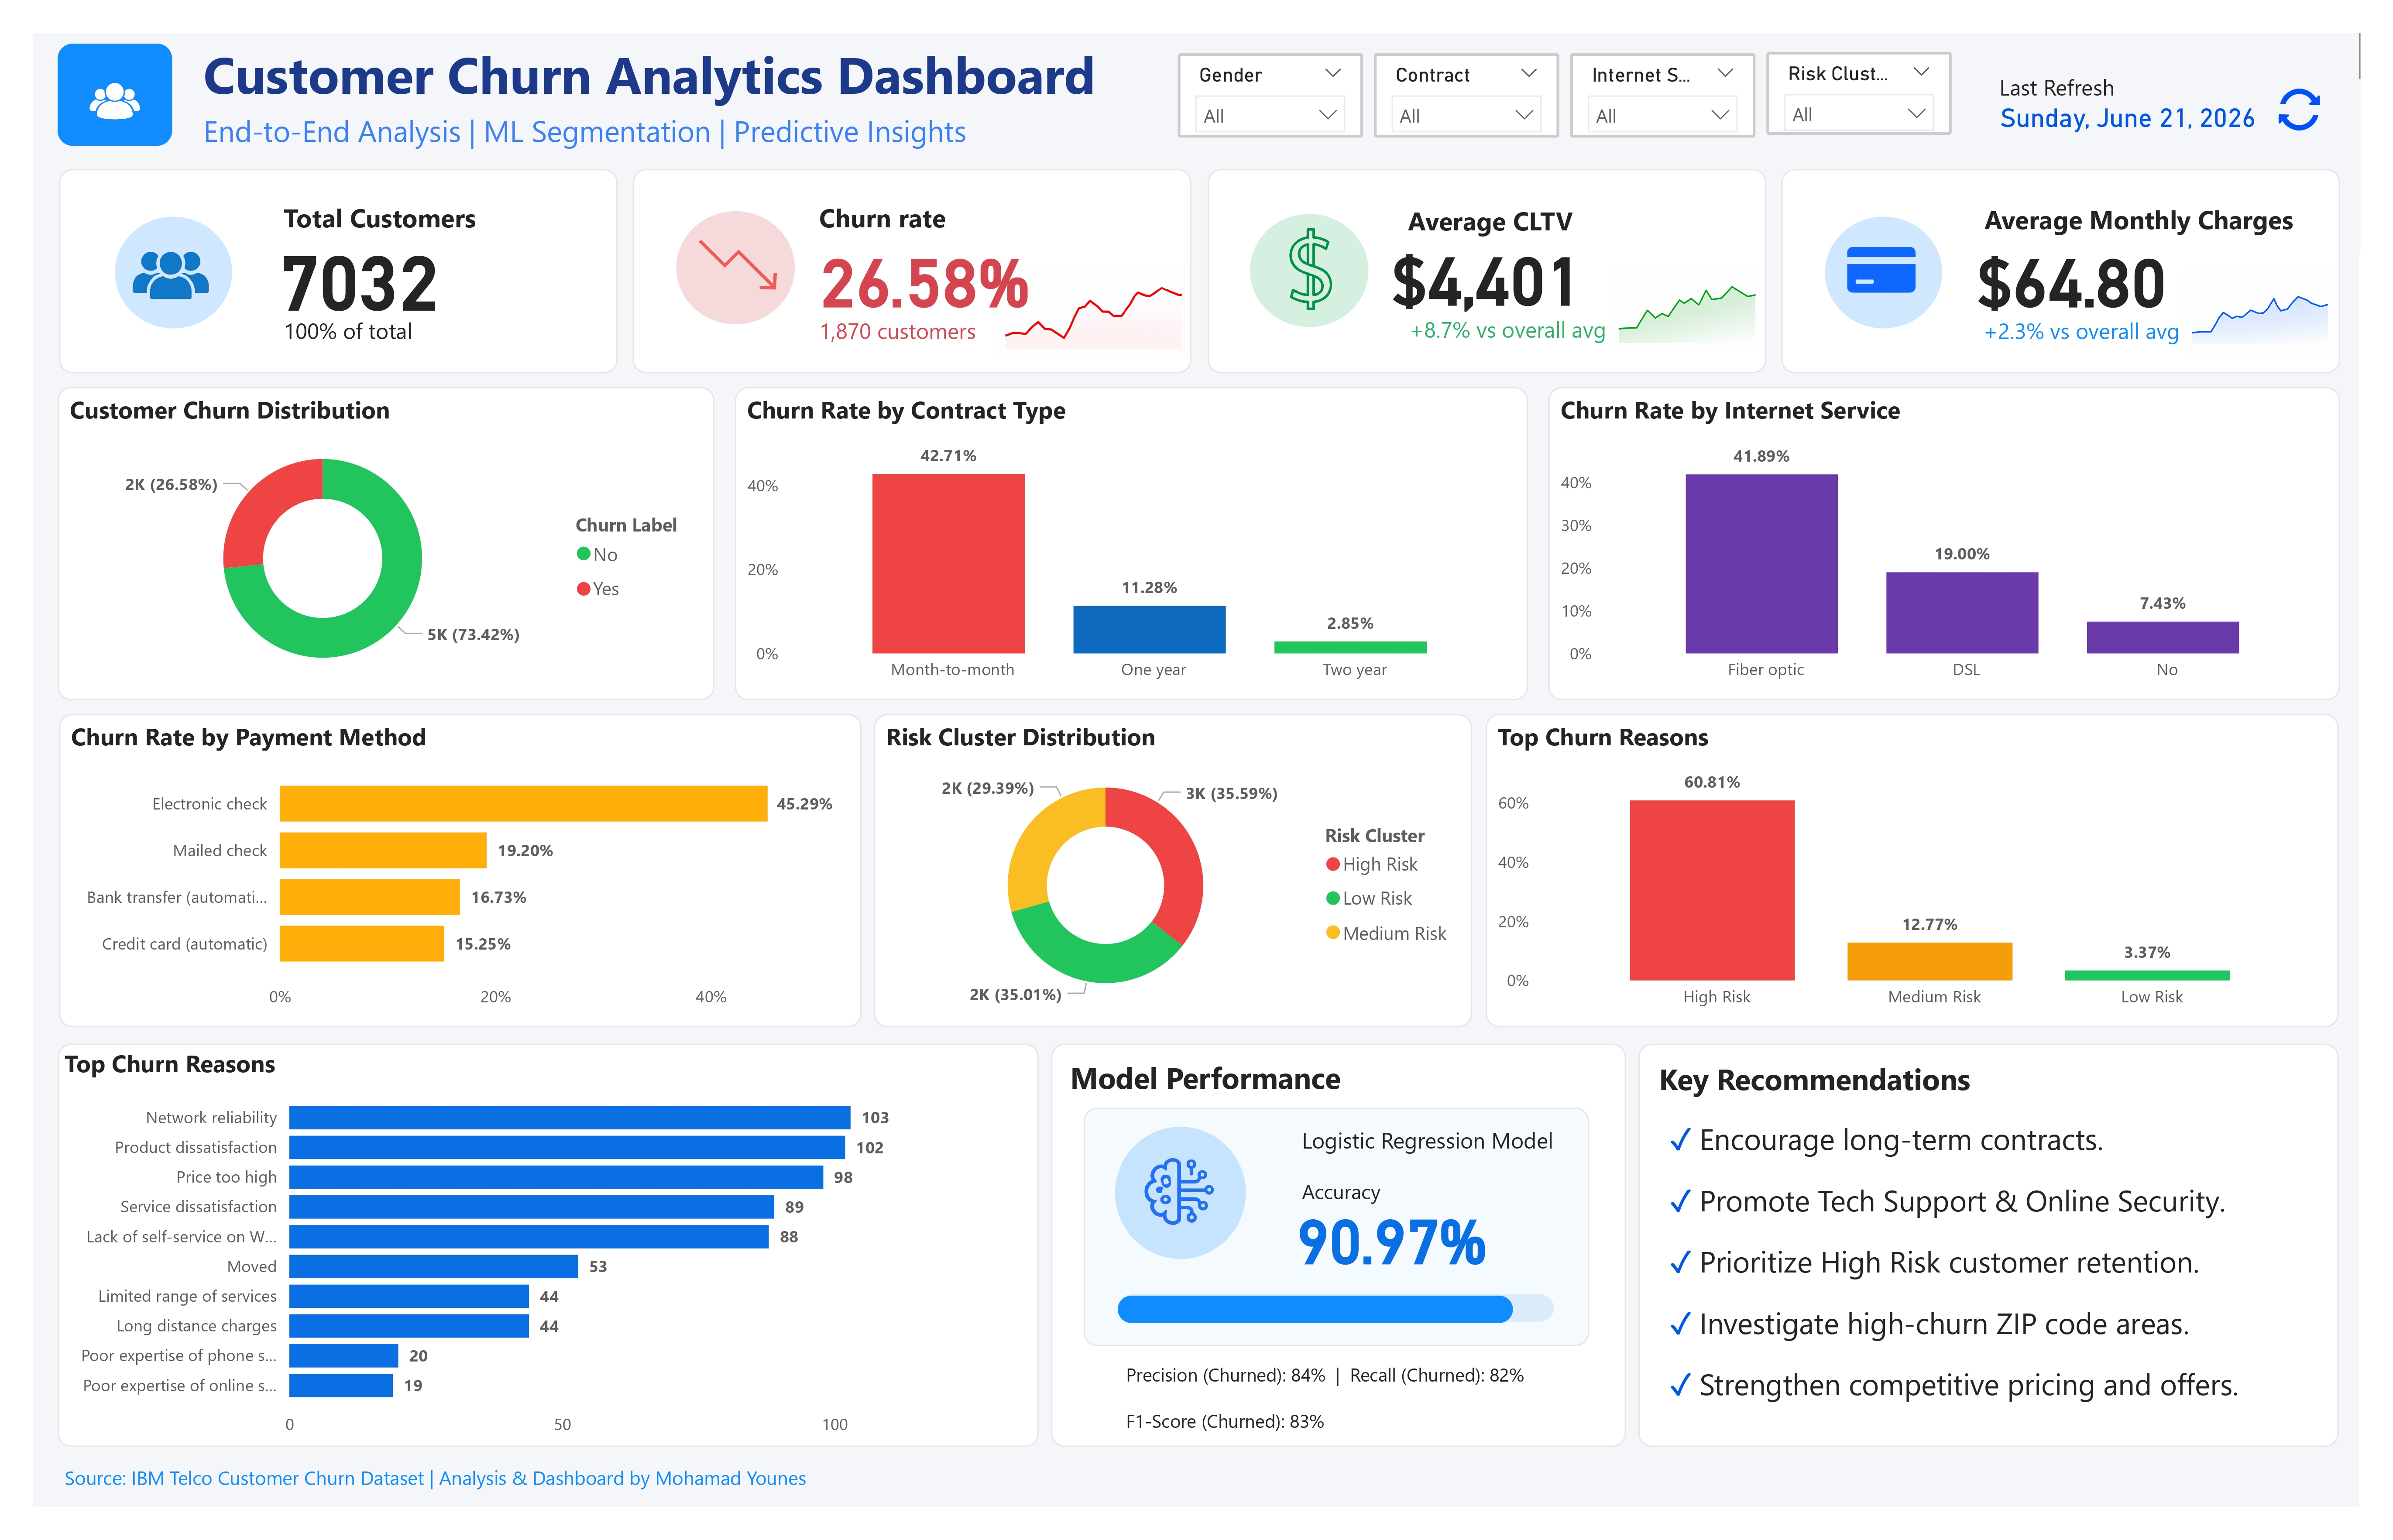

The page's visual inventory and layout, read from the dashboard file:
{"tool":"powerbi","page":{"name":"Page 1","canvas":[1707,1082],"ordinal":0},"visuals":[{"type":"textbox","box":[120,0,675,75],"z":0},{"type":"textbox","box":[122,52,582,46],"z":1000},{"type":"card","title":"Last Refresh","fields":{"Values":["customer_churn_dashboard.Last Refresh"]},"box":[1430,43.3,215,38.3],"z":2000},{"type":"textbox","box":[1438,24,114.3,41.4],"z":3000},{"type":"slicer","fields":{"Values":["customer_churn_dashboard.Gender"]},"box":[840,14.2,136.2,62.5],"z":4000},{"type":"slicer","fields":{"Values":["customer_churn_dashboard.Contract"]},"box":[984,14.6,136,61.8],"z":5000},{"type":"slicer","fields":{"Values":["customer_churn_dashboard.Internet Service"]},"box":[1127.7,14.6,136.4,61.8],"z":6000},{"type":"shape","box":[18.9,100,410,150],"z":7000},{"type":"slicer","fields":{"Values":["customer_churn_dashboard.Risk Cluster"]},"box":[1271.8,15,136,61],"z":8000},{"type":"card","fields":{"Values":["customer_churn_dashboard.Total Customers"]},"box":[156.7,136.7,164.2,80],"z":9000},{"type":"shape","box":[18.3,8.3,83.3,75],"z":10000},{"type":"image","box":[5.8,10.8,108.3,82.5],"z":11000},{"type":"image","box":[55,134,92,88],"z":12000},{"type":"textbox","box":[178.9,117.8,165.6,37.8],"z":13000},{"type":"textbox","box":[178.9,203.3,165.6,37.8],"z":14000},{"type":"shape","box":[440.4,100,410,150],"z":15000},{"type":"image","box":[701.4,128.8,150,147.5],"z":16000},{"type":"shape","box":[472.4,131.4,86.7,82.5],"z":17000},{"type":"textbox","box":[572.4,117.6,165.6,37.8],"z":18000},{"type":"textbox","box":[572.4,203.1,165.6,37.8],"z":19000},{"type":"image","box":[474,123,90,100],"z":20000},{"type":"card","fields":{"Values":["customer_churn_dashboard.Churn Rate"]},"box":[551,138,206.7,80],"z":21000},{"type":"shape","box":[861.9,100,410,150],"z":22000},{"type":"shape","box":[893.1,133.4,86.7,82.5],"z":23000},{"type":"textbox","box":[1004.4,120,165.6,37.8],"z":24000},{"type":"textbox","box":[1004.7,202.3,165,38.3],"z":25000},{"type":"image","box":[1150.7,141.4,121.4,122.9],"z":26000},{"type":"card","fields":{"Values":["customer_churn_dashboard.Average CLTV"]},"box":[963.3,136.7,206.7,80],"z":27000},{"type":"image","box":[872,126,130,95],"z":28000},{"type":"shape","box":[1283.4,100,410,150],"z":29000},{"type":"shape","box":[1314.6,134.6,86.7,82.5],"z":30000},{"type":"textbox","box":[1426.7,118.9,266.7,36.7],"z":31000},{"type":"textbox","box":[1426.2,203.4,165,38.3],"z":32000},{"type":"image","box":[1572.3,142.5,121.4,122.9],"z":33000},{"type":"card","fields":{"Values":["customer_churn_dashboard.Average Monthly Charges"]},"box":[1400,138,192,80],"z":34000},{"type":"image","box":[1572.5,148.3,120.8,116.7],"z":35000},{"type":"image","box":[1297.5,117.5,118.8,116.2],"z":36000},{"type":"donutChart","title":"Customer Churn Distribution","fields":{"Category":["customer_churn_dashboard.Churn Label"],"Y":["customer_churn_dashboard.Total Customers"]},"box":[18.3,260.2,481.7,230],"z":37000},{"type":"columnChart","title":"Churn Rate by Contract Type","fields":{"Category":["customer_churn_dashboard.Contract"],"Y":["customer_churn_dashboard.Churn Rate"]},"box":[515,260.2,581.7,230],"z":38000},{"type":"clusteredColumnChart","fields":{"Category":["customer_churn_dashboard.Internet Service"],"Y":["customer_churn_dashboard.Churn Rate"]},"box":[1111.7,260.2,581.7,230],"z":39000},{"type":"clusteredBarChart","fields":{"Category":["customer_churn_dashboard.Payment Method"],"Y":["customer_churn_dashboard.Churn Rate"]},"box":[18.9,500,588.9,230],"z":40000},{"type":"donutChart","title":"Risk Cluster Distribution","fields":{"Category":["customer_churn_dashboard.Risk Cluster"],"Y":["customer_churn_dashboard.Total Customers"]},"box":[617.4,500,438.9,230],"z":41000},{"type":"shape","box":[747.4,742.2,421.1,295.6],"z":42000},{"type":"shape","box":[770.7,788.6,371.2,175],"z":43000},{"type":"shape","box":[794,803.4,96,97],"z":44000},{"type":"card","fields":{"Values":["customer_churn_dashboard.Model Accuracy"]},"box":[907.3,837.1,180,91.4],"z":45000},{"type":"textbox","box":[756.1,746.7,220,45],"z":46000},{"type":"image","box":[790,803.4,103,111],"z":47000},{"type":"shape","box":[60,135,86,82],"z":48000},{"type":"textbox","box":[925.8,796.8,217.1,74.3],"z":49000},{"type":"shape","box":[18,741.9,720,296],"z":50000},{"type":"shape","box":[796.3,926.2,320,20],"z":51000},{"type":"shape","box":[795.9,926.6,290,20],"z":52000},{"type":"textbox","box":[797.4,971.4,317,65],"z":53000},{"type":"shape","box":[1178,742,514,296],"z":54000},{"type":"clusteredBarChart","title":"Top Churn Reasons","fields":{"Category":["customer_churn_dashboard.Churn Reason"],"Y":["CountNonNull(customer_churn_dashboard.Churn Reason)"]},"box":[18,744,628,296],"z":55000},{"type":"textbox","box":[1188,748,300,40],"z":56000},{"type":"textbox","box":[1196,792,496,246],"z":57000},{"type":"image","box":[1632.2,24.4,62.2,64.4],"z":58000},{"type":"clusteredColumnChart","title":"Top Churn Reasons","fields":{"Category":["customer_churn_dashboard.Risk Cluster"],"Y":["customer_churn_dashboard.Churn Rate"]},"box":[1066,500,626,230],"z":59000},{"type":"textbox","box":[18,1046,1050,36],"z":60000}]}

Visuals, with their boxes on the page's 1707x1082 design canvas (x1, y1, x2, y2). These are canvas units, not pixel positions in the 2393x1540 screenshot, which may show the page scaled, cropped or inside an application window:
textbox: [120, 0, 795, 75]
textbox: [122, 52, 704, 98]
"Last Refresh" card: [1430, 43, 1645, 82]
textbox: [1438, 24, 1552, 65]
slicer - customer_churn_dashboard.Gender: [840, 14, 976, 77]
slicer - customer_churn_dashboard.Contract: [984, 15, 1120, 76]
slicer - customer_churn_dashboard.Internet Service: [1128, 15, 1264, 76]
shape: [19, 100, 429, 250]
slicer - customer_churn_dashboard.Risk Cluster: [1272, 15, 1408, 76]
card - customer_churn_dashboard.Total Customers: [157, 137, 321, 217]
shape: [18, 8, 102, 83]
image: [6, 11, 114, 93]
image: [55, 134, 147, 222]
textbox: [179, 118, 344, 156]
textbox: [179, 203, 344, 241]
shape: [440, 100, 850, 250]
image: [701, 129, 851, 276]
shape: [472, 131, 559, 214]
textbox: [572, 118, 738, 155]
textbox: [572, 203, 738, 241]
image: [474, 123, 564, 223]
card - customer_churn_dashboard.Churn Rate: [551, 138, 758, 218]
shape: [862, 100, 1272, 250]
shape: [893, 133, 980, 216]
textbox: [1004, 120, 1170, 158]
textbox: [1005, 202, 1170, 241]
image: [1151, 141, 1272, 264]
card - customer_churn_dashboard.Average CLTV: [963, 137, 1170, 217]
image: [872, 126, 1002, 221]
shape: [1283, 100, 1693, 250]
shape: [1315, 135, 1401, 217]
textbox: [1427, 119, 1693, 156]
textbox: [1426, 203, 1591, 242]
image: [1572, 142, 1694, 265]
card - customer_churn_dashboard.Average Monthly Charges: [1400, 138, 1592, 218]
image: [1572, 148, 1693, 265]
image: [1298, 118, 1416, 234]
"Customer Churn Distribution" donutChart: [18, 260, 500, 490]
"Churn Rate by Contract Type" columnChart: [515, 260, 1097, 490]
clusteredColumnChart - customer_churn_dashboard.Internet Service x customer_churn_dashboard.Churn Rate: [1112, 260, 1693, 490]
clusteredBarChart - customer_churn_dashboard.Payment Method x customer_churn_dashboard.Churn Rate: [19, 500, 608, 730]
"Risk Cluster Distribution" donutChart: [617, 500, 1056, 730]
shape: [747, 742, 1168, 1038]
shape: [771, 789, 1142, 964]
shape: [794, 803, 890, 900]
card - customer_churn_dashboard.Model Accuracy: [907, 837, 1087, 928]
textbox: [756, 747, 976, 792]
image: [790, 803, 893, 914]
shape: [60, 135, 146, 217]
textbox: [926, 797, 1143, 871]
shape: [18, 742, 738, 1038]
shape: [796, 926, 1116, 946]
shape: [796, 927, 1086, 947]
textbox: [797, 971, 1114, 1036]
shape: [1178, 742, 1692, 1038]
"Top Churn Reasons" clusteredBarChart: [18, 744, 646, 1040]
textbox: [1188, 748, 1488, 788]
textbox: [1196, 792, 1692, 1038]
image: [1632, 24, 1694, 89]
"Top Churn Reasons" clusteredColumnChart: [1066, 500, 1692, 730]
textbox: [18, 1046, 1068, 1082]
